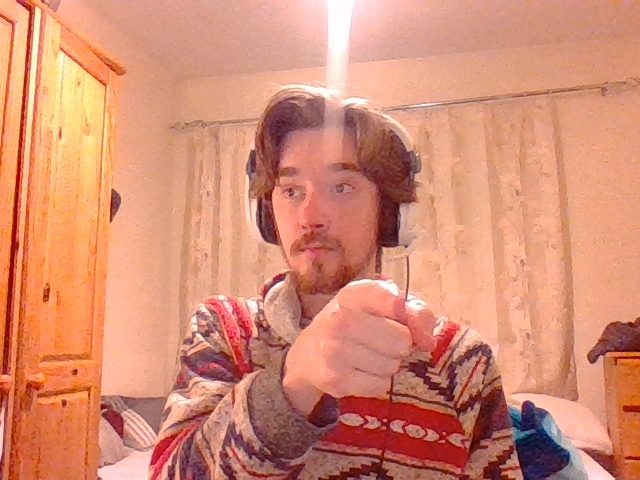you: (290, 280, 437, 399)
